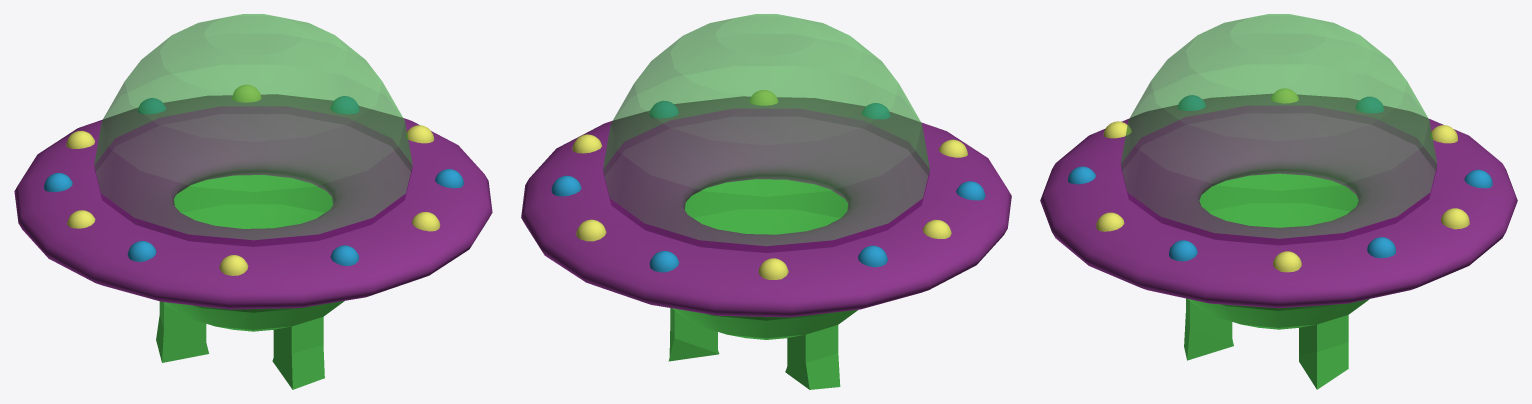
The model's file is UFO1.fbx.
The picture shows the model from 3 angles, left to right: view 1: azimuth 30°, elevation 25°; view 2: azimuth 150°, elevation 25°; view 3: azimuth 270°, elevation 25°; orthographic projection. The views are drawn at different scales.
Parts seen in each view (by area): view 1: pSphere68; view 2: pSphere68; view 3: pSphere68.
Boxes of the visible parts, box(x1,y1,x2,y2) form: pSphere68: box(14, 14, 492, 389); pSphere68: box(521, 14, 1011, 389); pSphere68: box(1040, 14, 1517, 389).
Bounding box in the file's own units: 3 × 2.26 × 3.
